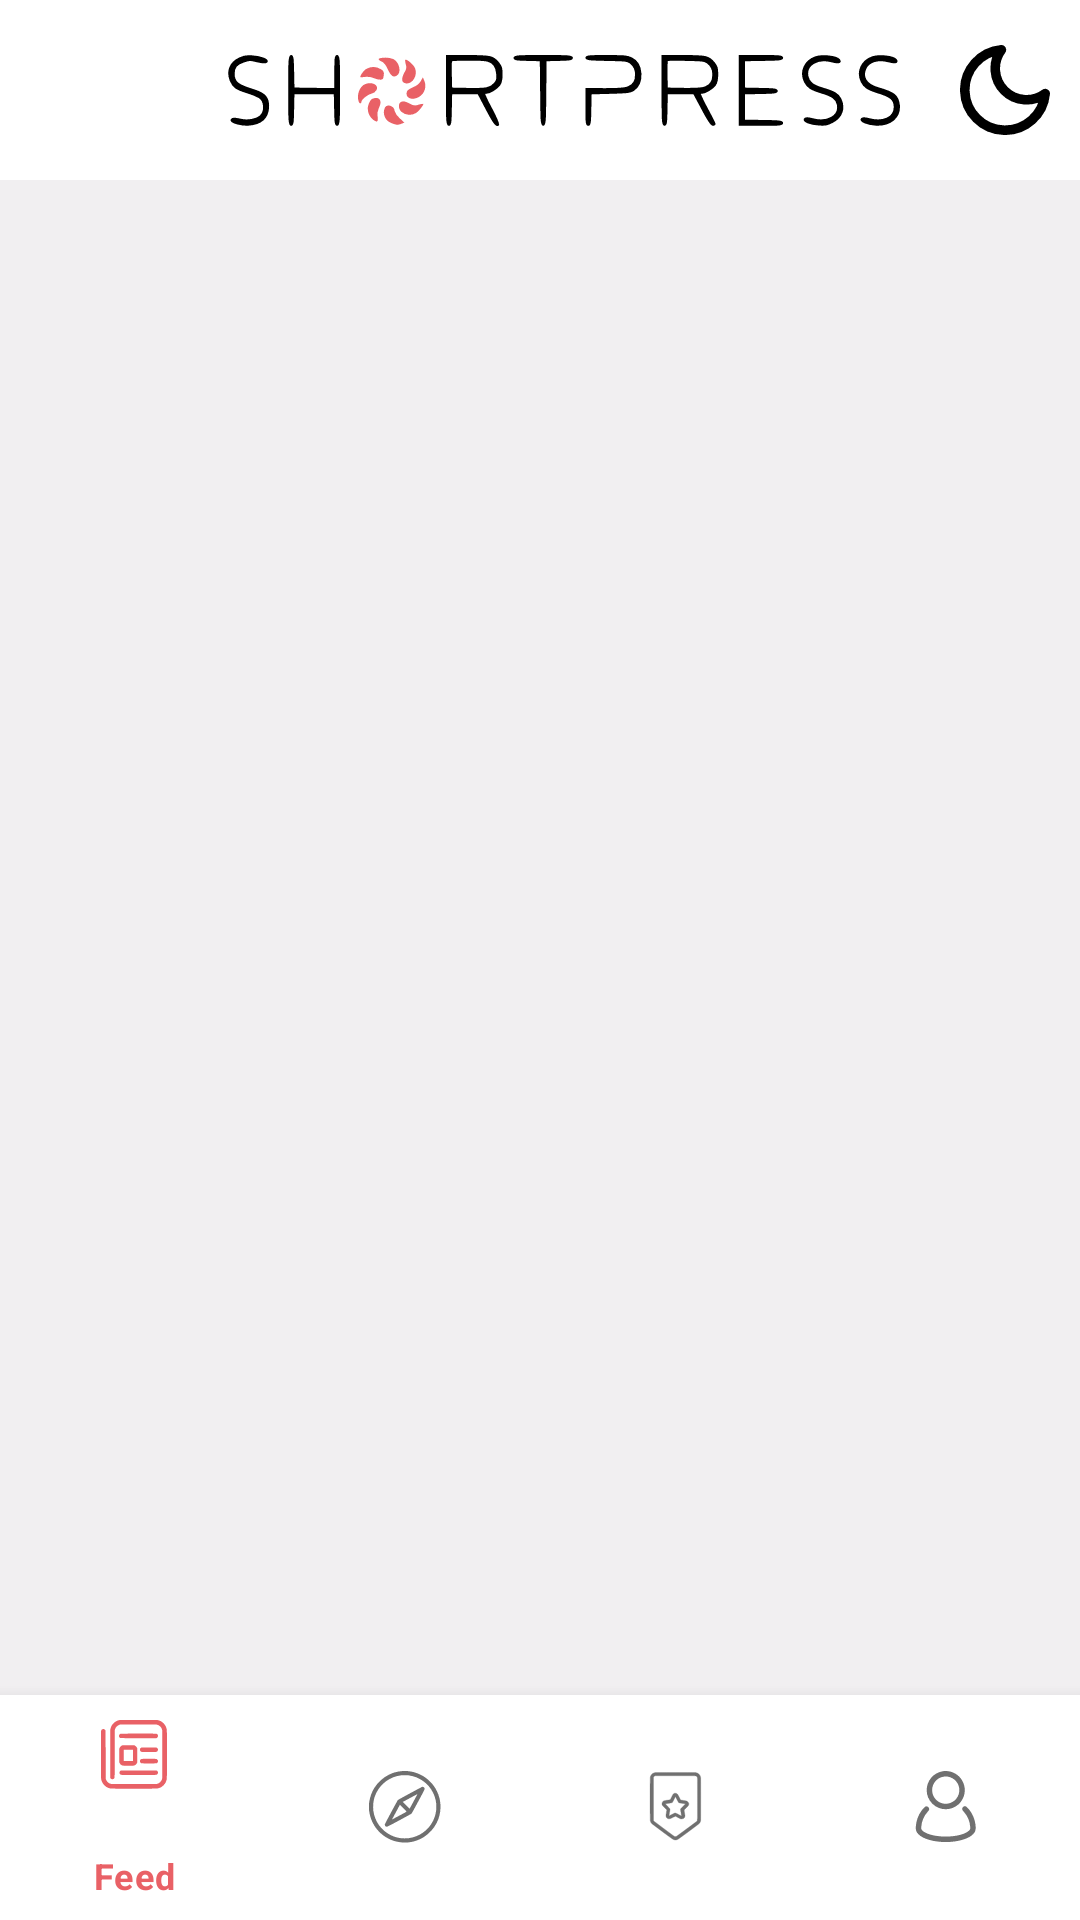

Screen size 1080w x 1920h. Icon name, then its center in pixels as (x,y):
nights stay: (1005,90)
